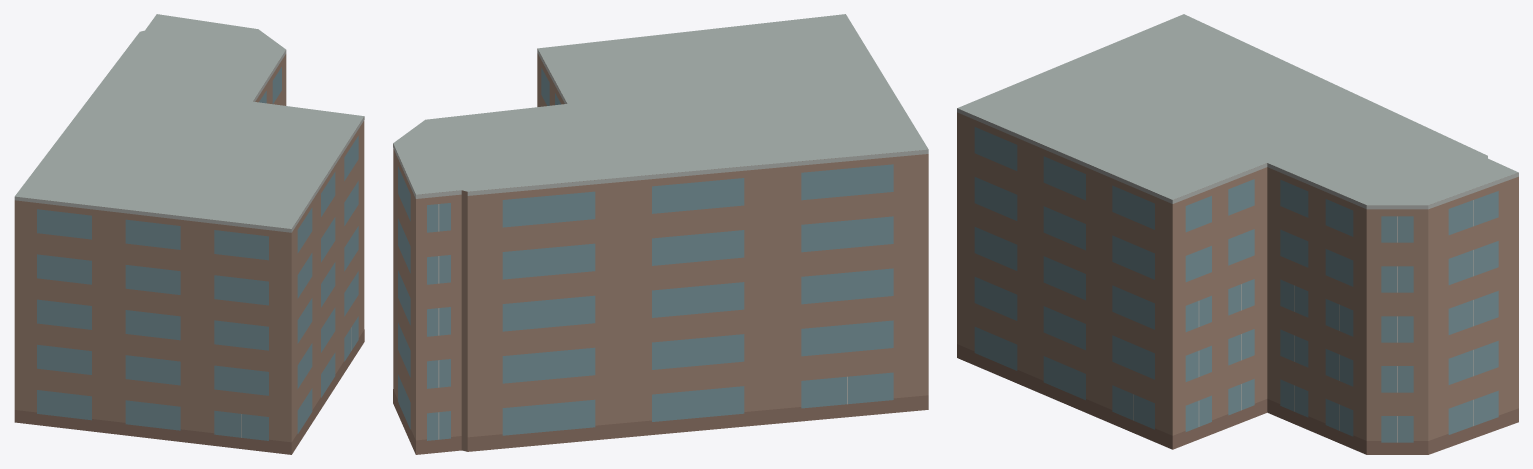
The model's file is survey-upis-32487531.glb.
3 renders of one model, left to right at view 1: azimuth 30°, elevation 25°; view 2: azimuth 150°, elevation 25°; view 3: azimuth 270°, elevation 25°, orthographic. The views are drawn at different scales.
Visible parts, largest first — view 1: survey-upis-32487531.tmp; view 2: survey-upis-32487531.tmp; view 3: survey-upis-32487531.tmp.
Part boxes in pixels (bbox=[...]): survey-upis-32487531.tmp: bbox=[14, 14, 364, 454]; survey-upis-32487531.tmp: bbox=[393, 14, 928, 454]; survey-upis-32487531.tmp: bbox=[957, 14, 1518, 454].
Size of the model in its own units: 24.15 by 14.7 by 29.98.
